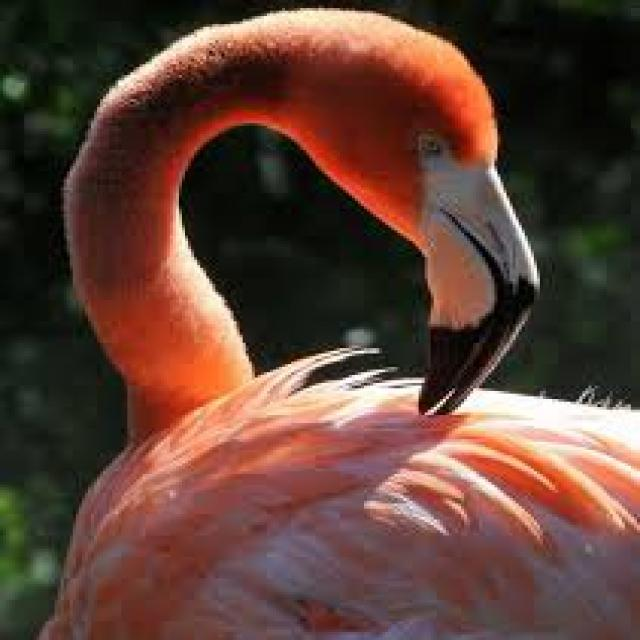Flamingo: (45, 2, 639, 640)
